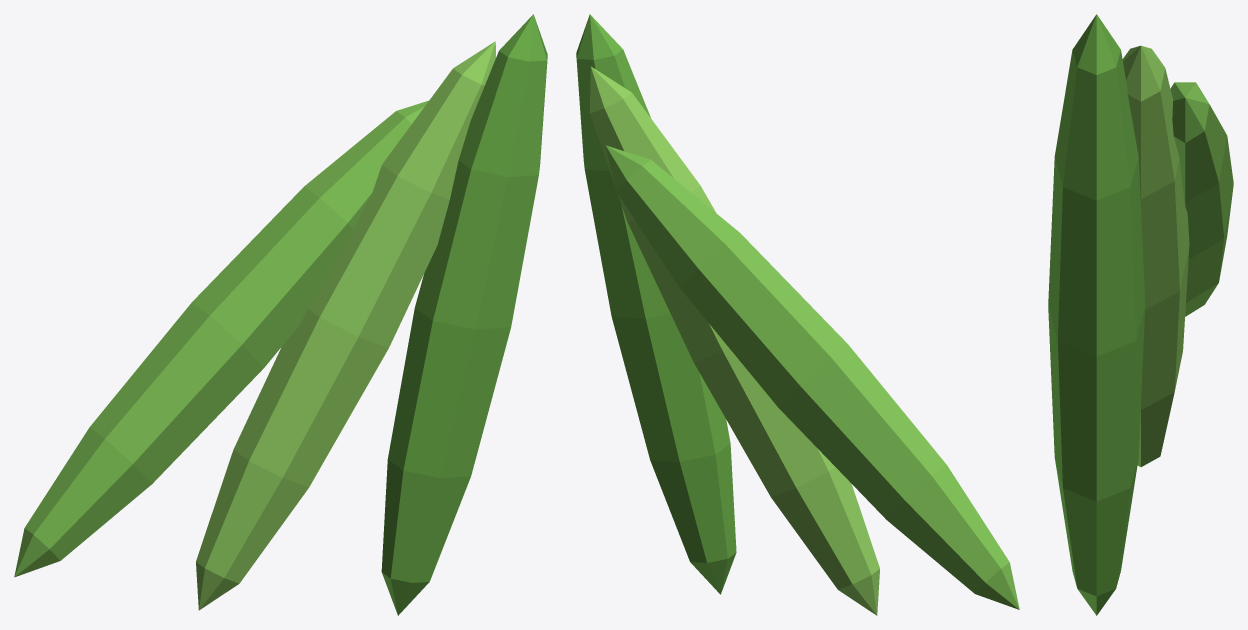
File: uprawa-fasolka.glb
3 views of the same model, side by side, from view 1: azimuth 30°, elevation 25°; view 2: azimuth 150°, elevation 25°; view 3: azimuth 270°, elevation 25° (orthographic). The views are drawn at different scales.
Visible parts, largest first — view 1: uprawa-fasolka-2, uprawa-fasolka-1, uprawa-fasolka-0; view 2: uprawa-fasolka-0, uprawa-fasolka-2, uprawa-fasolka-1; view 3: uprawa-fasolka-2, uprawa-fasolka-1, uprawa-fasolka-0.
Part boxes in pixels (x1,y1,x2,y2): uprawa-fasolka-2: (381,14,547,615); uprawa-fasolka-1: (196,41,495,610); uprawa-fasolka-0: (14,100,428,577); uprawa-fasolka-0: (605,145,1019,609); uprawa-fasolka-2: (576,14,736,594); uprawa-fasolka-1: (590,66,879,615); uprawa-fasolka-2: (1048,14,1145,615); uprawa-fasolka-1: (1122,45,1189,467); uprawa-fasolka-0: (1170,82,1233,316).
Bounding box in the file's own units: 1.24 × 1.36 × 0.3355.
